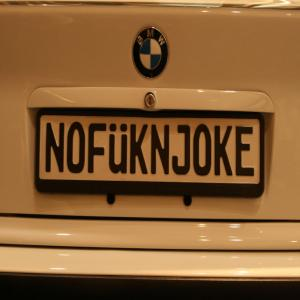Vehicle-registration-plate: (35, 110, 267, 198)
